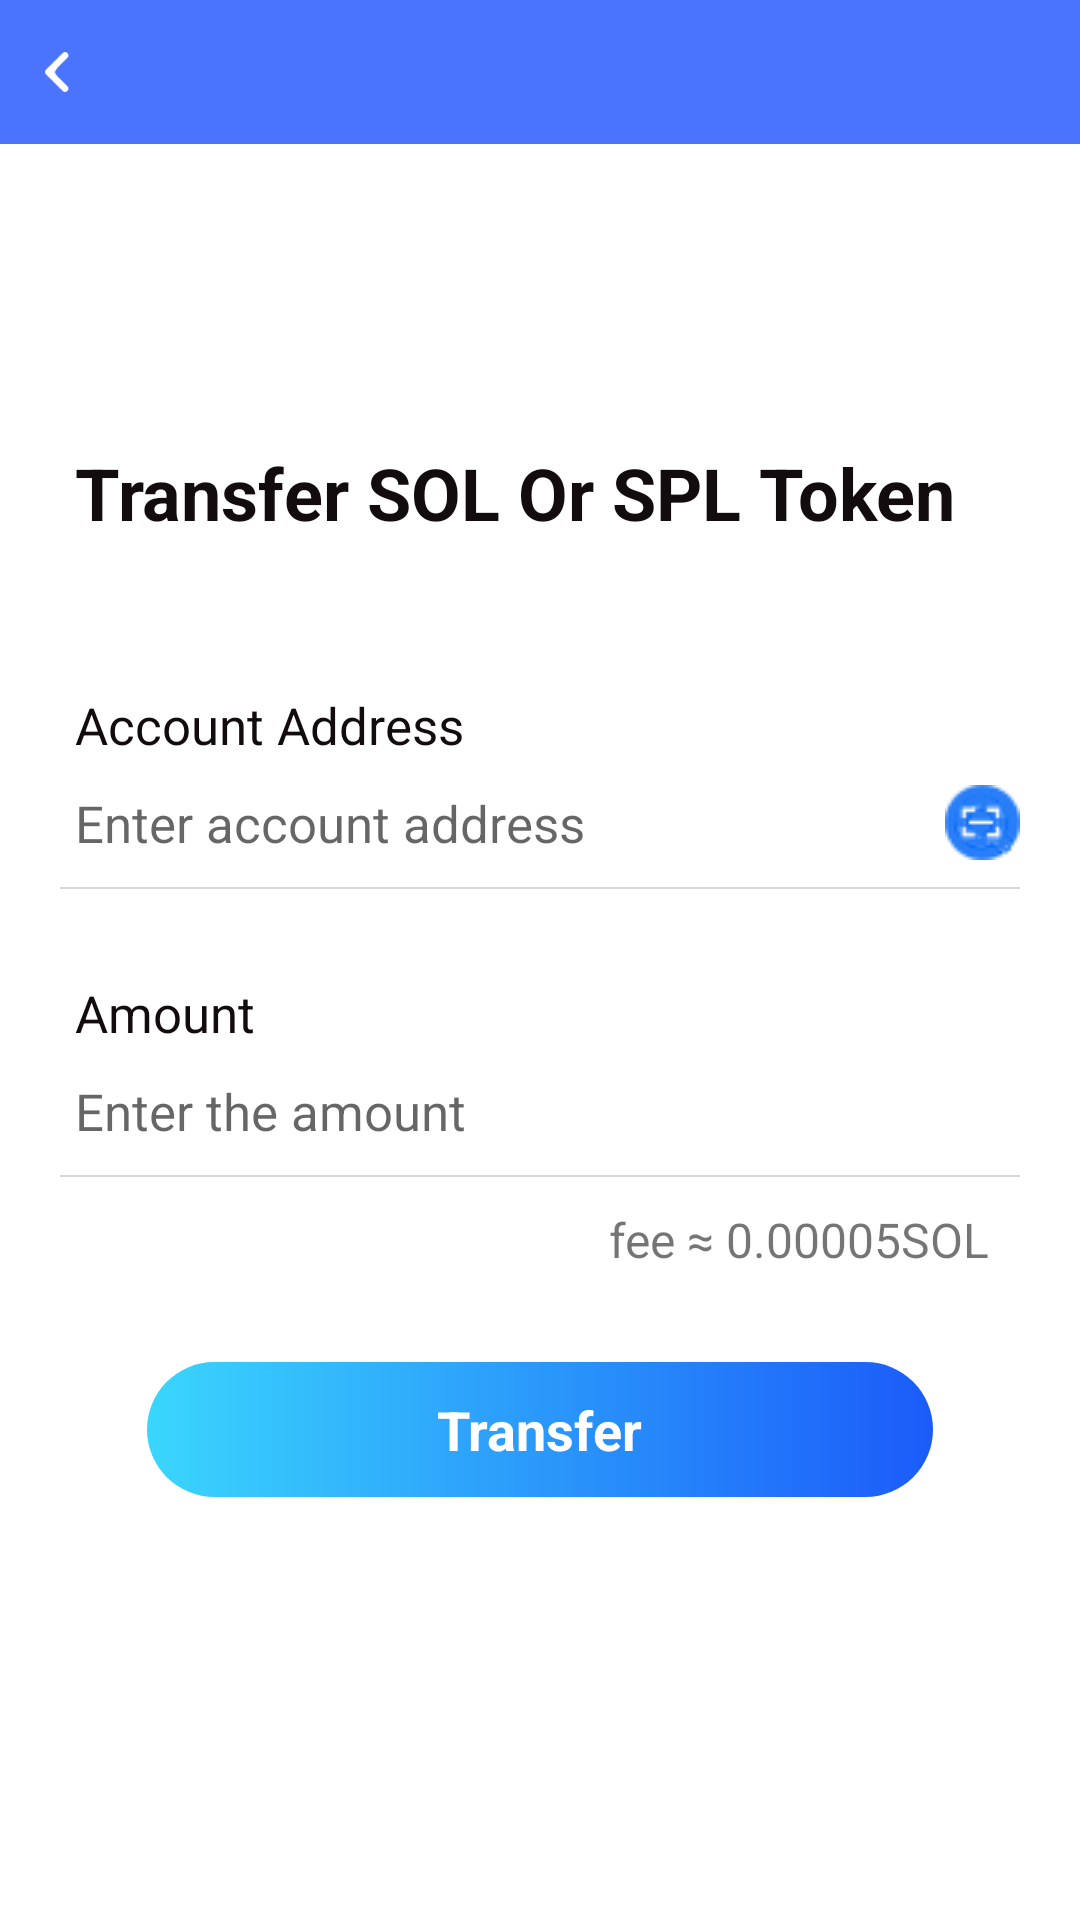

Screen size 1080*1920. Icon name, then its center in pixels as (x,y):
back: (57,72)
search scan: (982,822)
